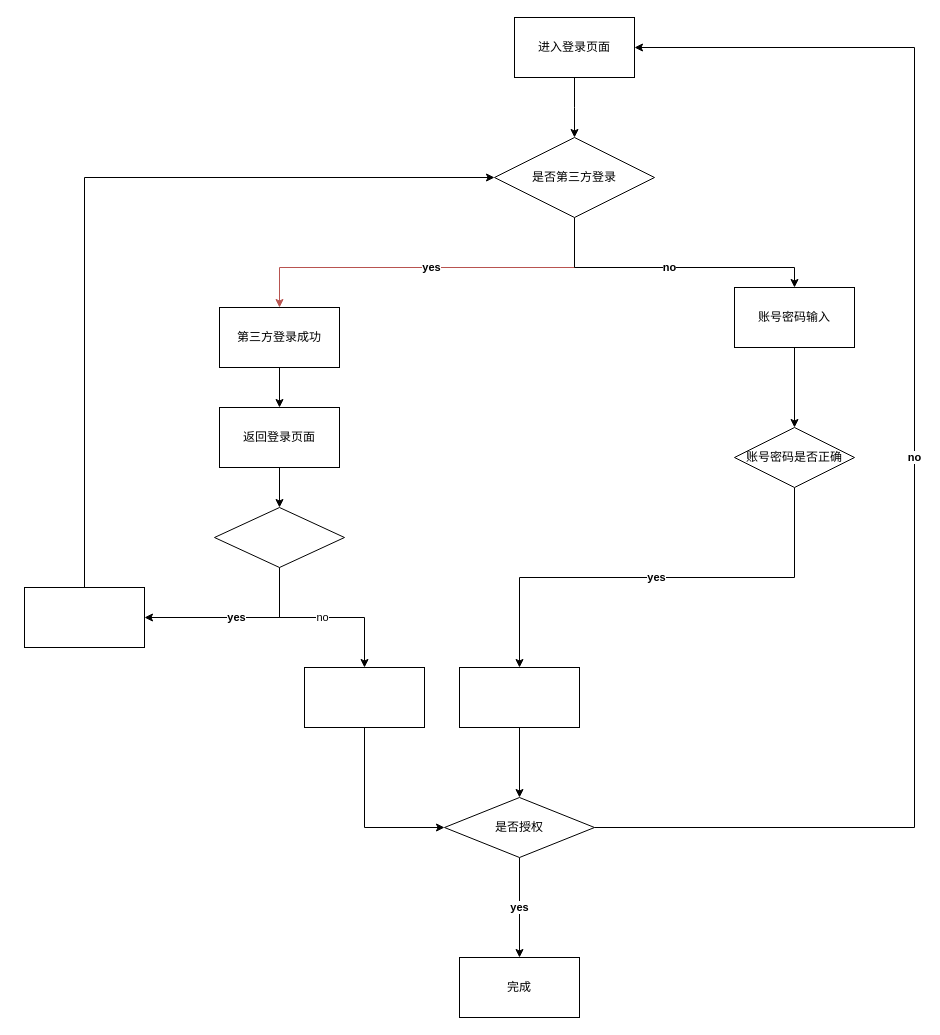
Image size: 940x1035. Some labels were removed from this diagram. Here are the shapes that lost their labels. From the top down, the box of each, then its label:
(214, 506, 344, 568): 是否第一次登录
(24, 586, 144, 648): 进行注册绑定
(304, 666, 424, 728): 回到登录页面自动登录
(458, 666, 580, 728): 授权页面
